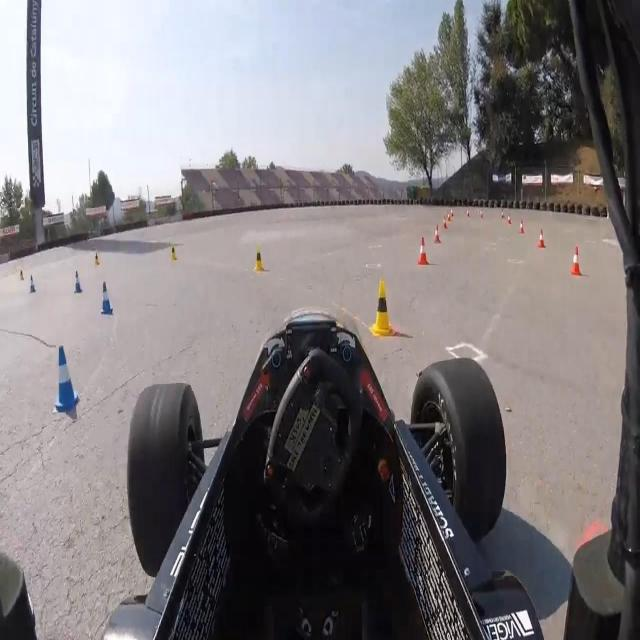blue_cone: (49, 342, 79, 416), (96, 279, 115, 318), (70, 268, 86, 296), (29, 273, 37, 296)
orange_cone: (570, 244, 583, 276), (417, 235, 429, 267), (536, 226, 546, 254), (433, 222, 440, 245), (519, 218, 525, 235), (443, 214, 448, 230), (479, 206, 484, 219), (466, 206, 471, 218), (446, 212, 451, 224), (501, 208, 505, 221), (451, 206, 455, 217), (508, 212, 511, 224)
yellow_cone: (372, 279, 395, 335), (250, 242, 264, 274), (167, 239, 180, 263), (94, 250, 101, 266)
